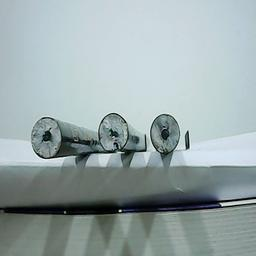pen: (31, 116, 62, 159), (149, 112, 180, 155), (98, 110, 129, 153)
